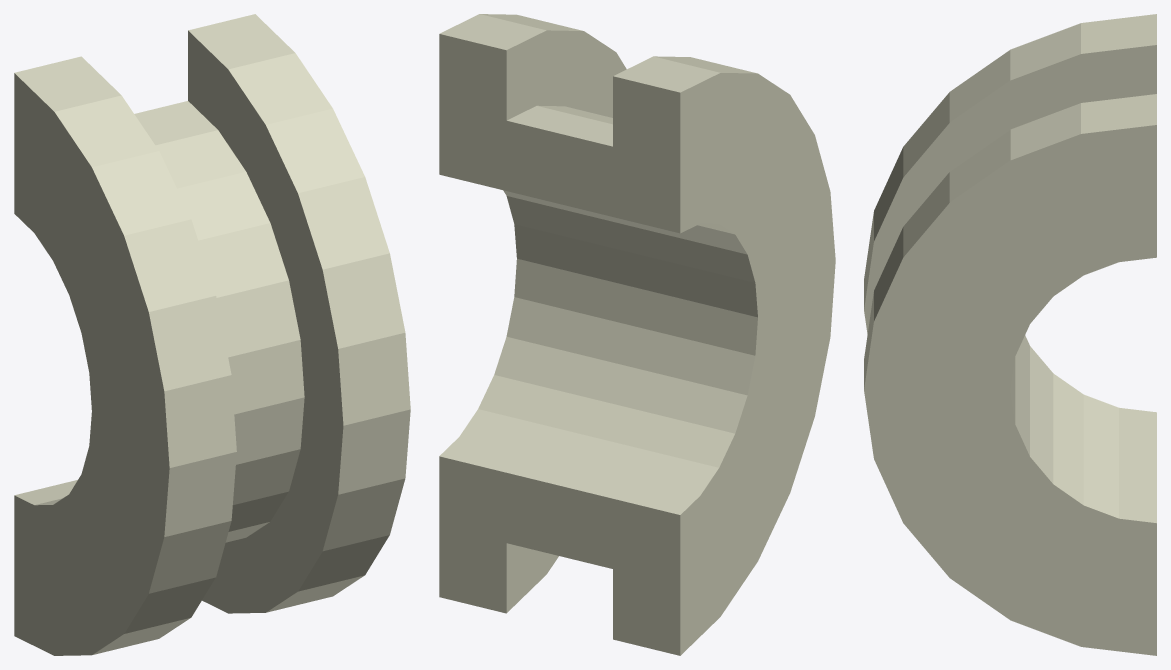
File: section_346.obj
The picture shows the model from 3 angles, left to right: view 1: azimuth 30°, elevation 25°; view 2: azimuth 150°, elevation 25°; view 3: azimuth 270°, elevation 25°; orthographic projection. The views are drawn at different scales.
Bounding box in the file's own units: 3.58 × 8 × 4.
